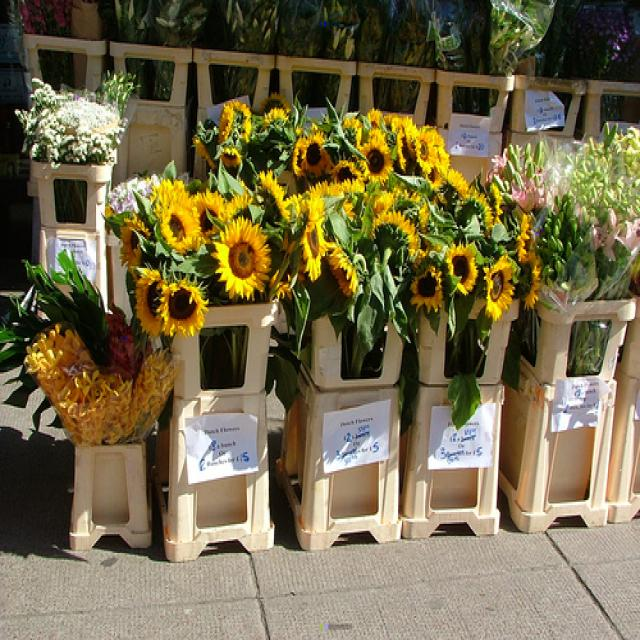sunflower: (212, 218, 274, 309), (152, 185, 204, 264), (127, 268, 176, 346), (162, 268, 212, 341), (367, 208, 423, 270), (405, 250, 444, 315), (510, 247, 546, 314), (301, 200, 330, 282), (482, 254, 516, 323), (327, 243, 367, 301), (443, 236, 481, 295), (195, 185, 231, 245), (114, 212, 151, 270), (293, 126, 329, 176), (364, 134, 394, 182), (416, 126, 440, 172)
